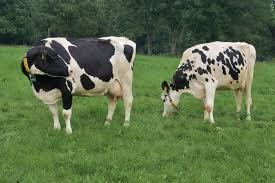cow: (20, 36, 136, 134), (160, 41, 256, 125)
